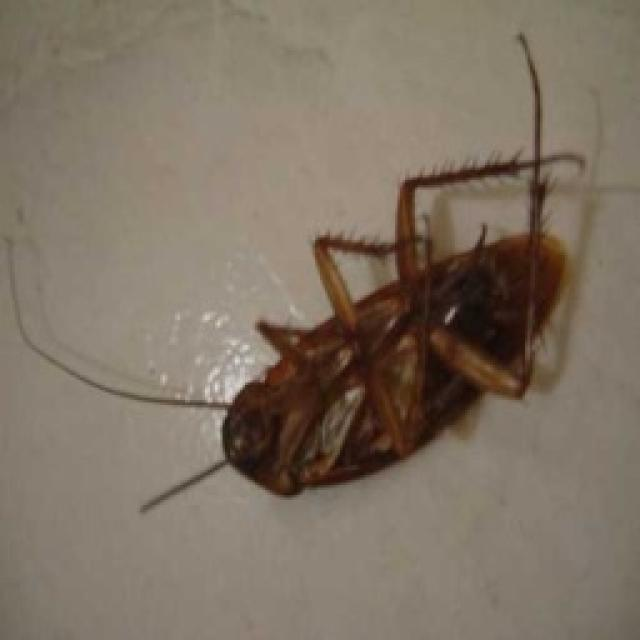cockroach: (176, 106, 622, 577)
